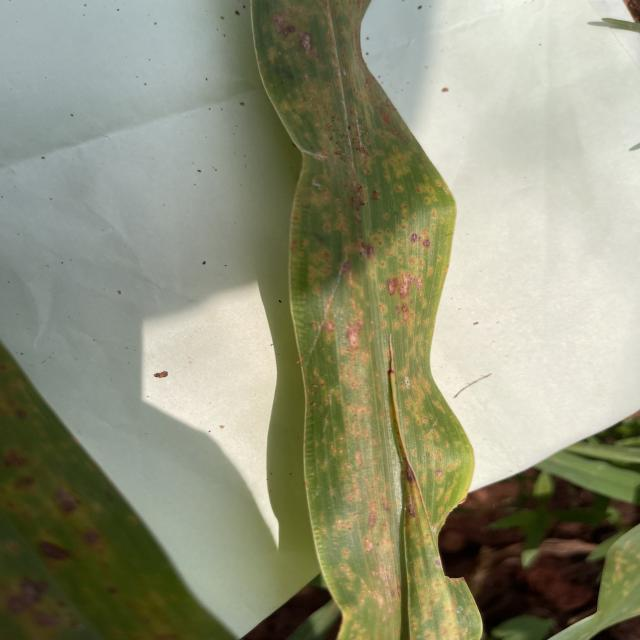millet_rust: (235, 2, 497, 640)
